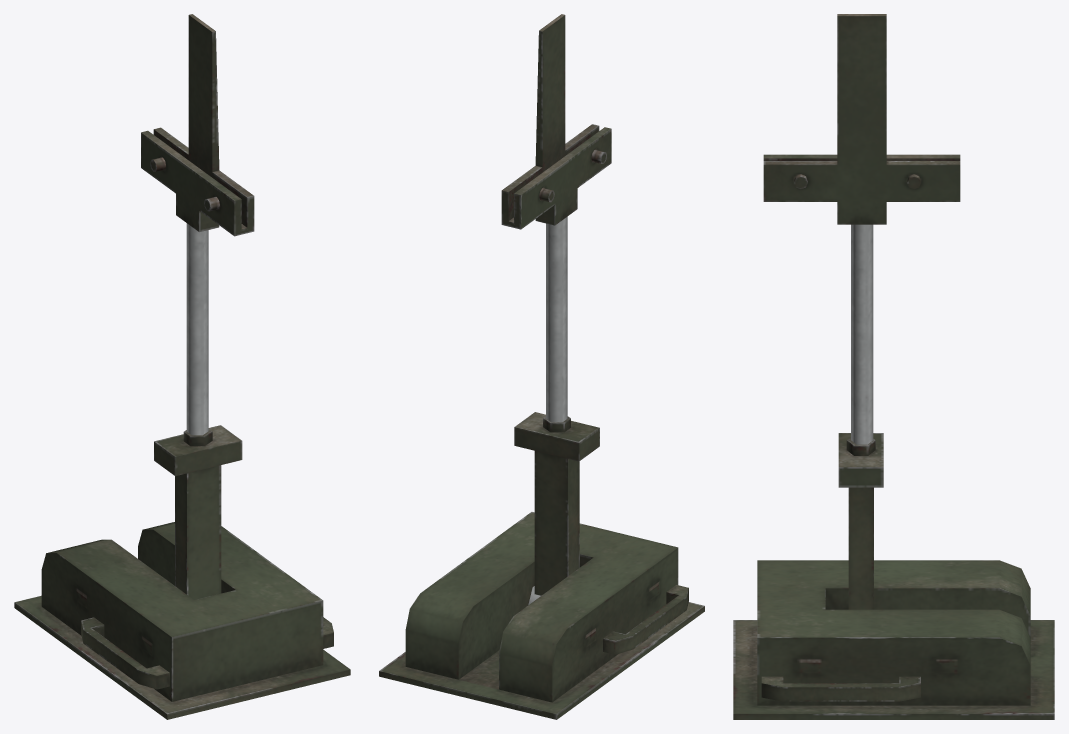
The model's file is TgtTargetStandB1.fbx.
3 views of the same model, side by side, from view 1: azimuth 30°, elevation 25°; view 2: azimuth 150°, elevation 25°; view 3: azimuth 270°, elevation 25° (orthographic). The views are drawn at different scales.
Visible parts, largest first — view 1: TgtTargetStandB1, TgtTargetStandB1ArmA2, TgtTargetStandB1ArmA1; view 2: TgtTargetStandB1, TgtTargetStandB1ArmA2, TgtTargetStandB1ArmA1; view 3: TgtTargetStandB1, TgtTargetStandB1ArmA2, TgtTargetStandB1ArmA1.
Boxes of the visible parts, x1=… form: TgtTargetStandB1: x1=14, y1=522, x2=350, y2=719; TgtTargetStandB1ArmA2: x1=141, y1=14, x2=254, y2=435; TgtTargetStandB1ArmA1: x1=154, y1=425, x2=242, y2=599; TgtTargetStandB1: x1=379, y1=512, x2=704, y2=719; TgtTargetStandB1ArmA2: x1=501, y1=14, x2=611, y2=422; TgtTargetStandB1ArmA1: x1=514, y1=412, x2=599, y2=604; TgtTargetStandB1: x1=733, y1=560, x2=1054, y2=719; TgtTargetStandB1ArmA2: x1=763, y1=14, x2=960, y2=444; TgtTargetStandB1ArmA1: x1=838, y1=433, x2=883, y2=609.
Bounding box in the file's own units: 33.58 × 104 × 46.02.
1 material, 1 textured.
